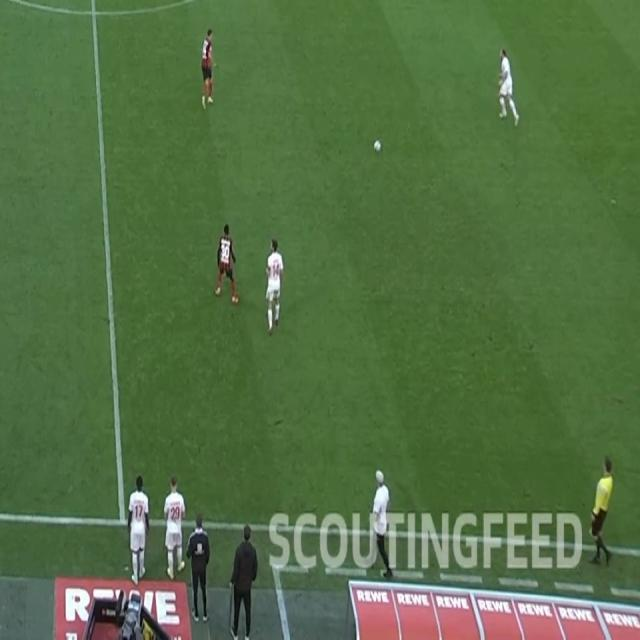ball: (373, 137, 382, 154)
